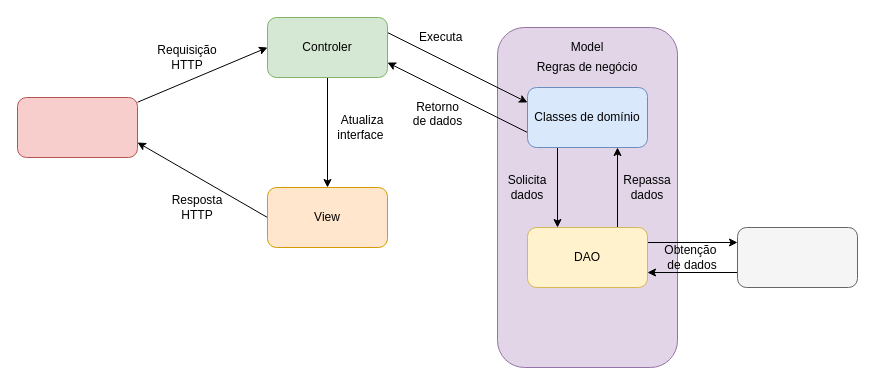
The diagram is 875 pixels wide and 385 high, and some of its shapes have lost their labels. Here are the shapes that lost their labels. From the top down, the centre of each, then its label:
At [77,127]: "Browser".
At [797,257]: "DataBase".
